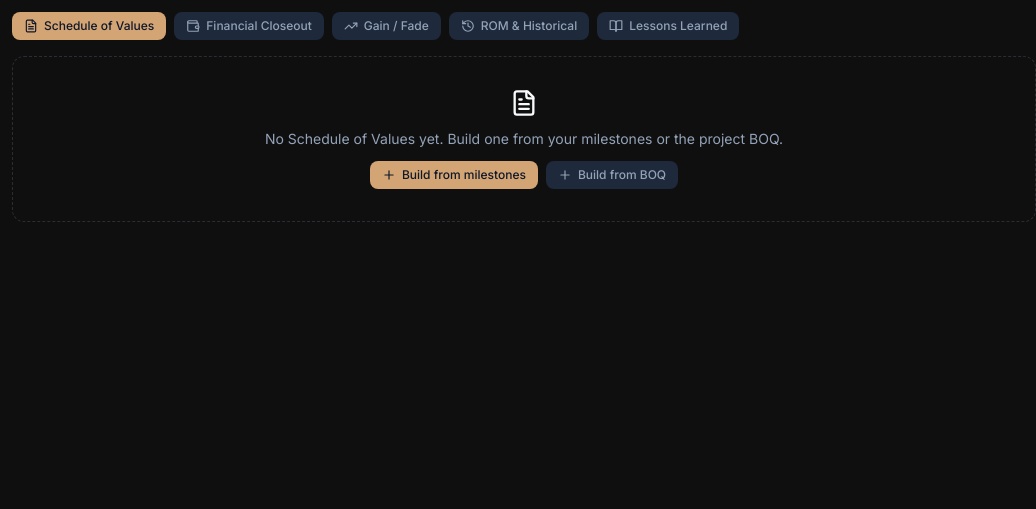
Test: CloseoutPanel › ROM estimator shows best and range from seeded pool
Click the button "ROM & Historical": (519, 26) [449,12,589,40]
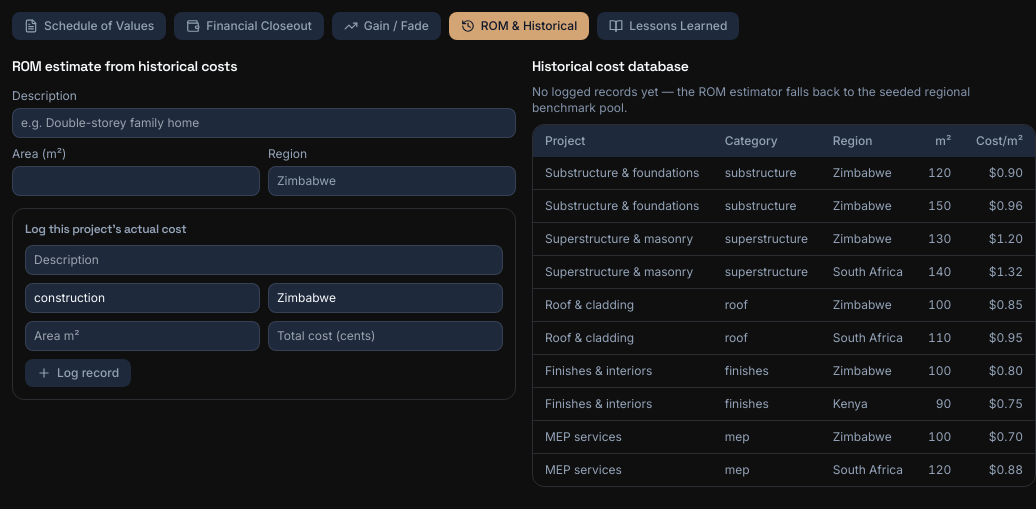
In the number field labelled "Area (m²)": (136, 181) [12,166,260,196], type "100"
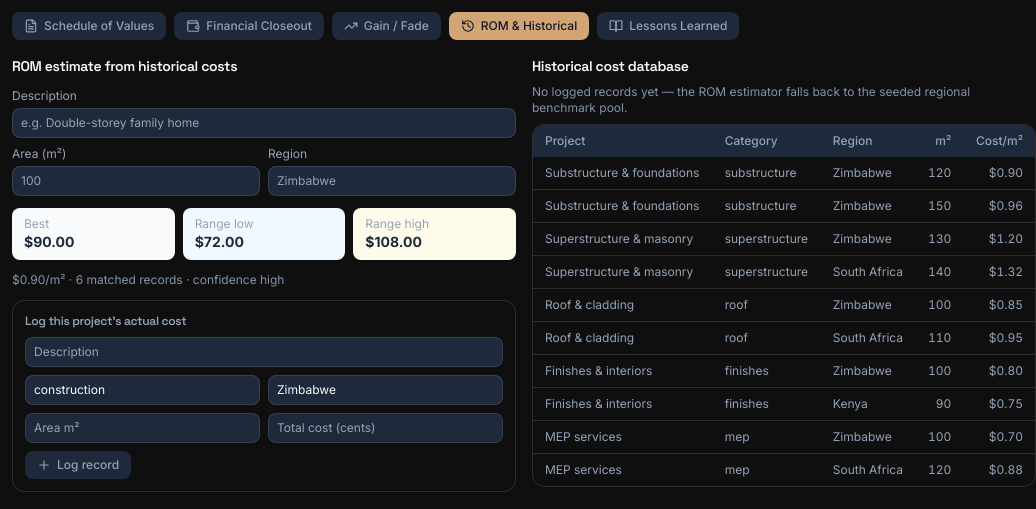
Check: the text "Best" is shown, box [24,216,49,231]
Check: the text "Range low" is shown, box [195,216,254,231]
Check: the text "Range high" is shown, box [365,216,429,231]
